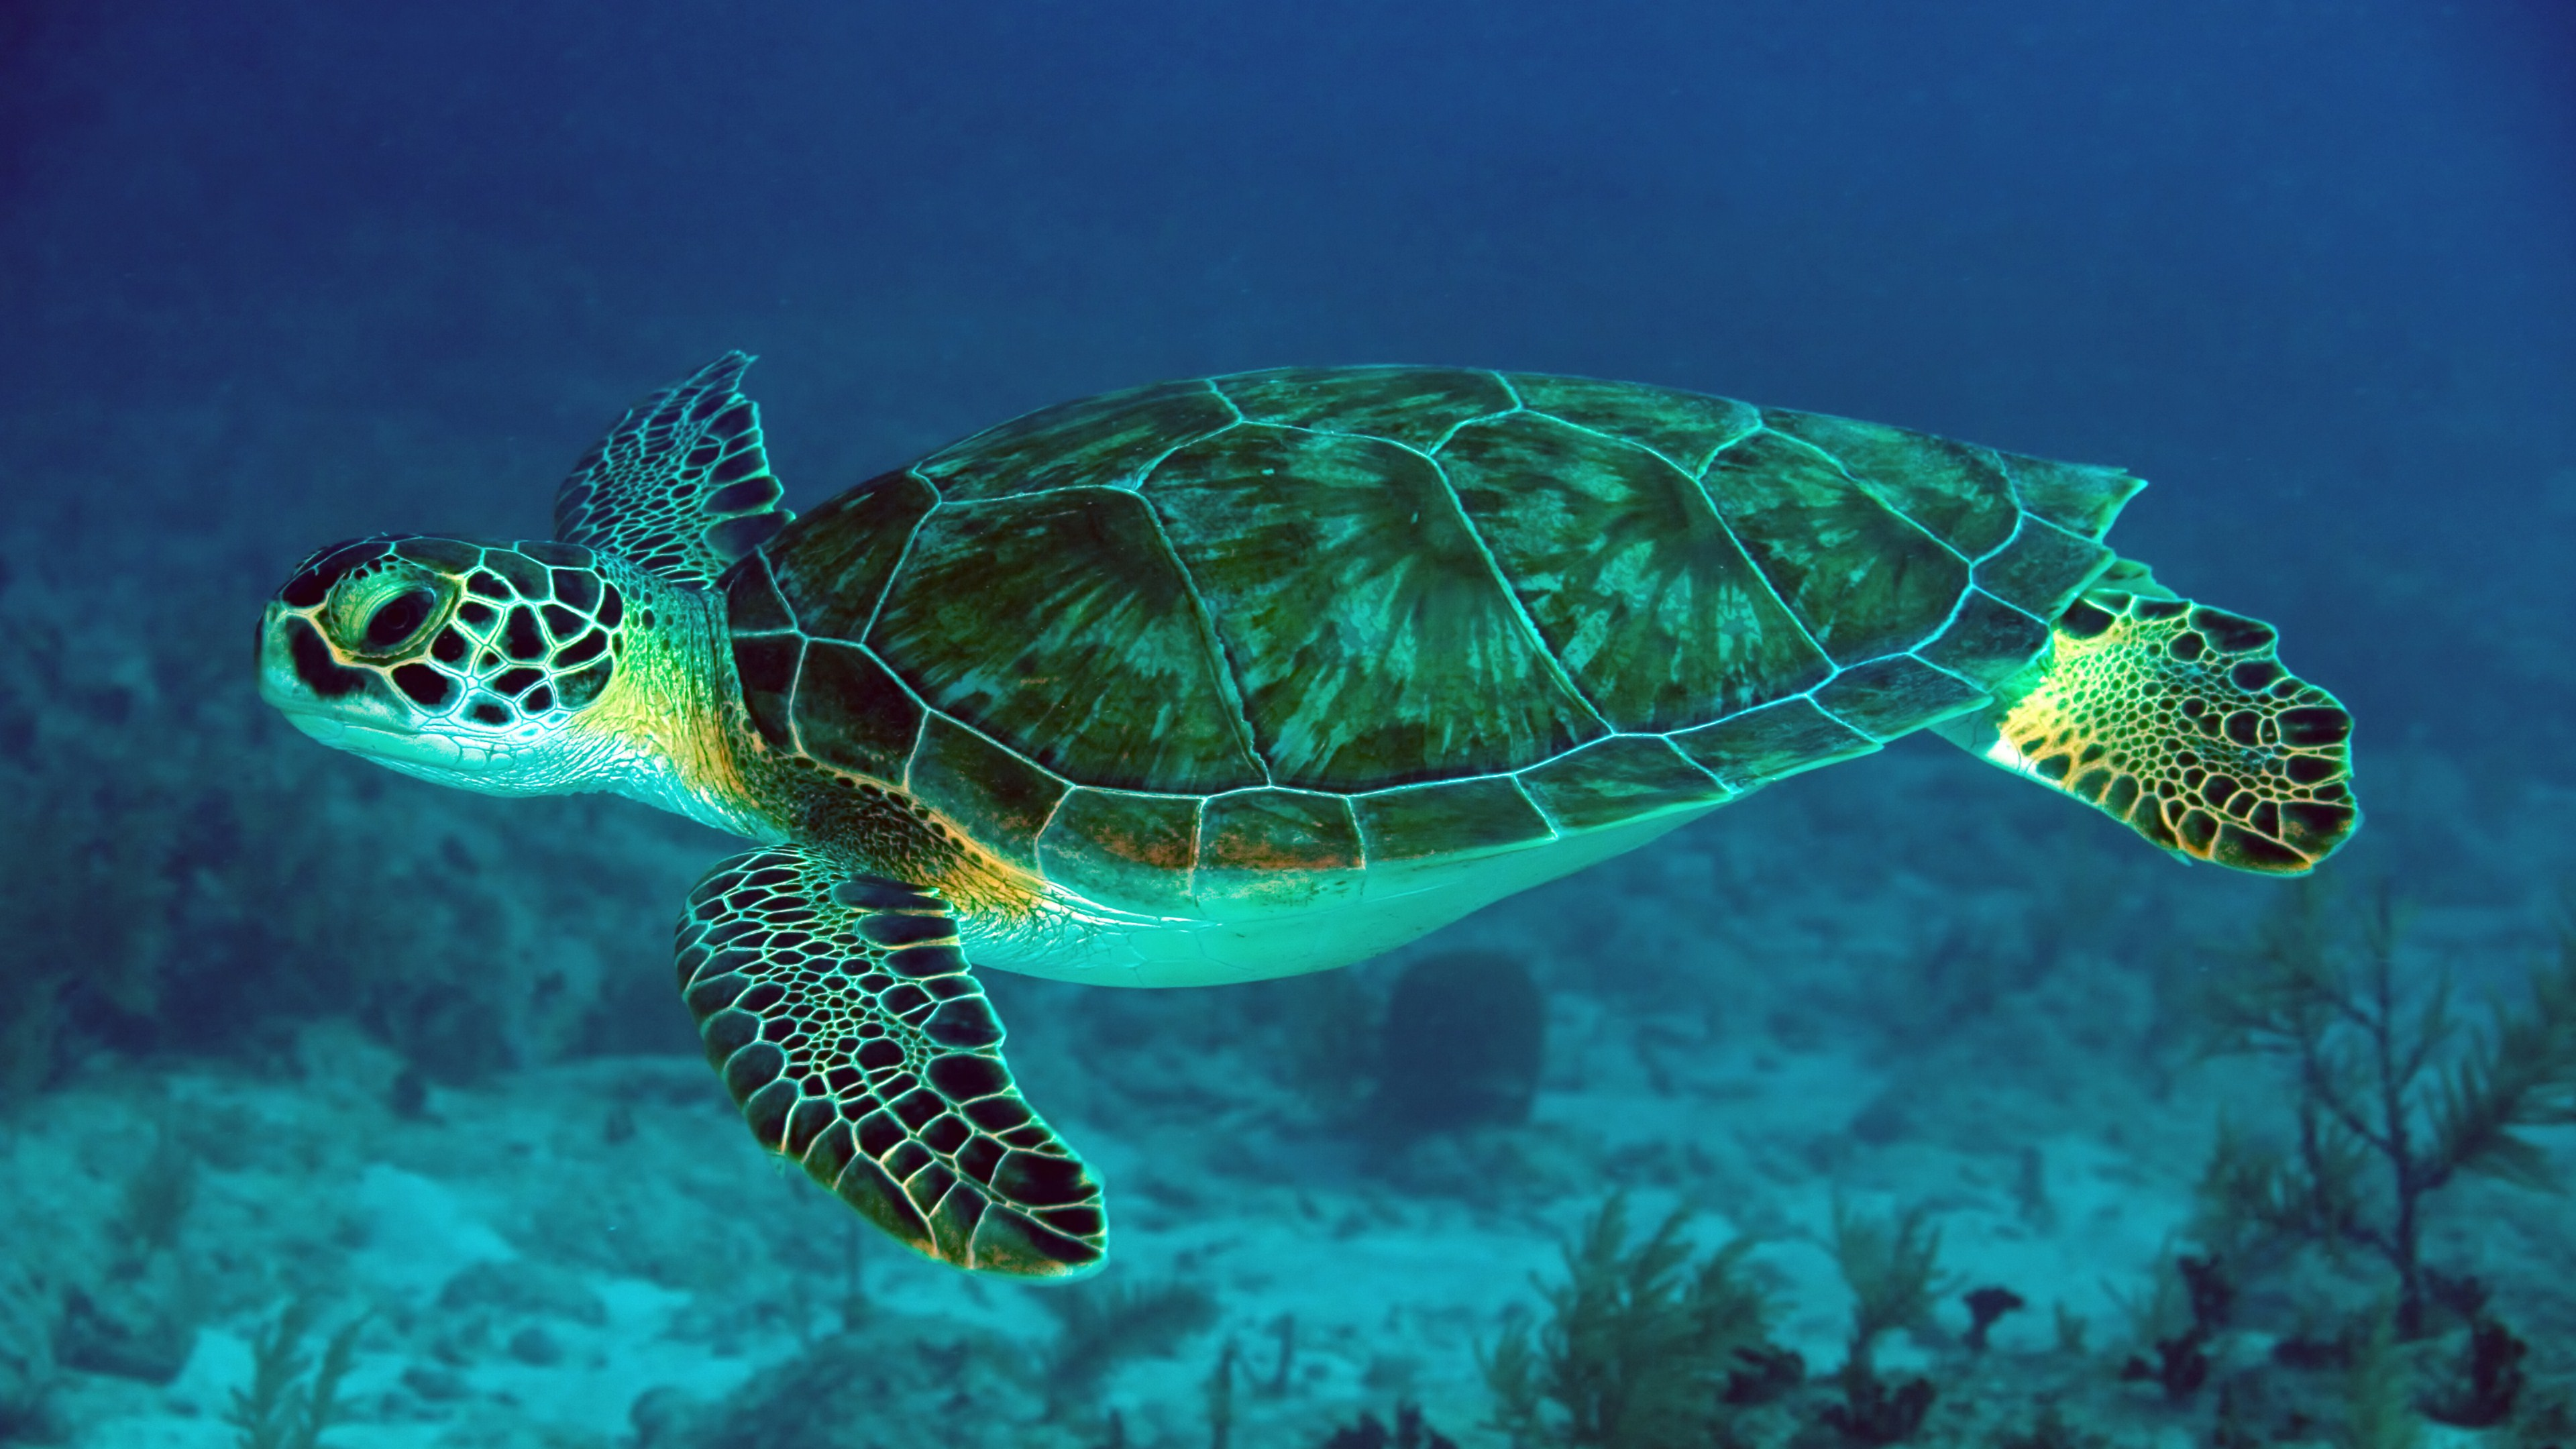eye: (318, 564, 464, 667)
mouth: (255, 683, 531, 780)
